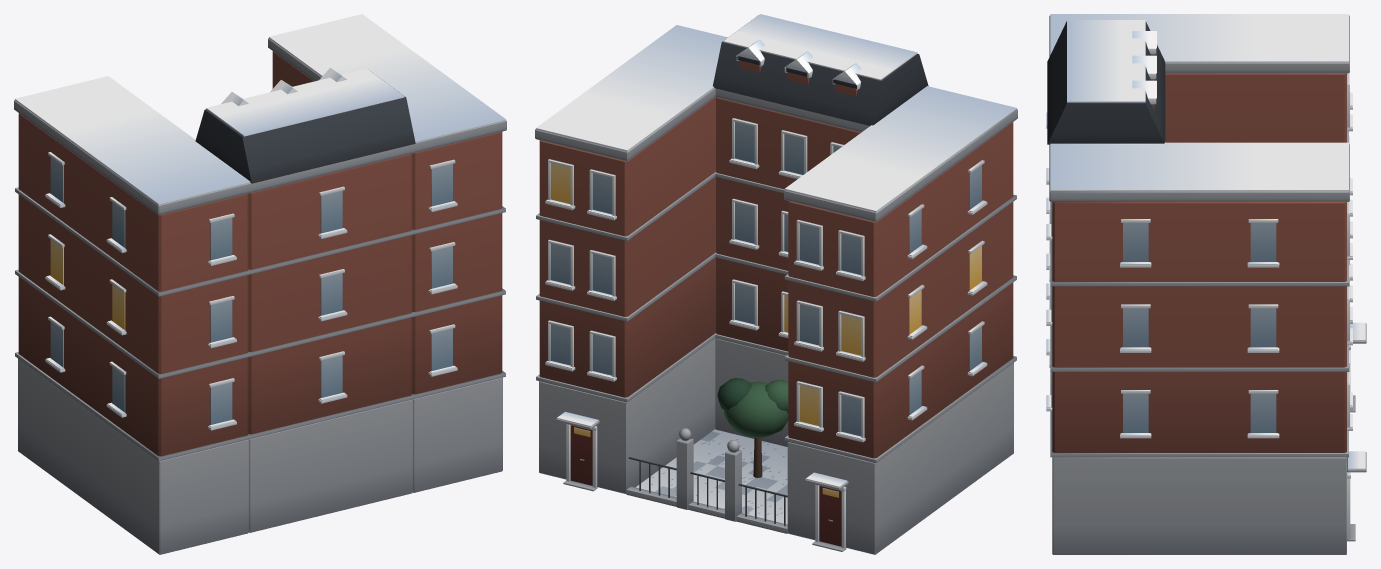
The model's file is ck_midrise_courtyard.fbx.
3 views of the same model, side by side, from view 1: azimuth 30°, elevation 25°; view 2: azimuth 150°, elevation 25°; view 3: azimuth 270°, elevation 25° (orthographic). The views are drawn at different scales.
Parts seen in each view (by area): view 1: ck_midrise_courtyard; view 2: ck_midrise_courtyard; view 3: ck_midrise_courtyard.
Boxes of the visible parts, left/top/right/bottom form: ck_midrise_courtyard: left=14, top=14, right=506, bottom=554; ck_midrise_courtyard: left=535, top=14, right=1017, bottom=554; ck_midrise_courtyard: left=1046, top=14, right=1366, bottom=554.
Size of the model in its own units: 4318 by 4640 by 3259.
